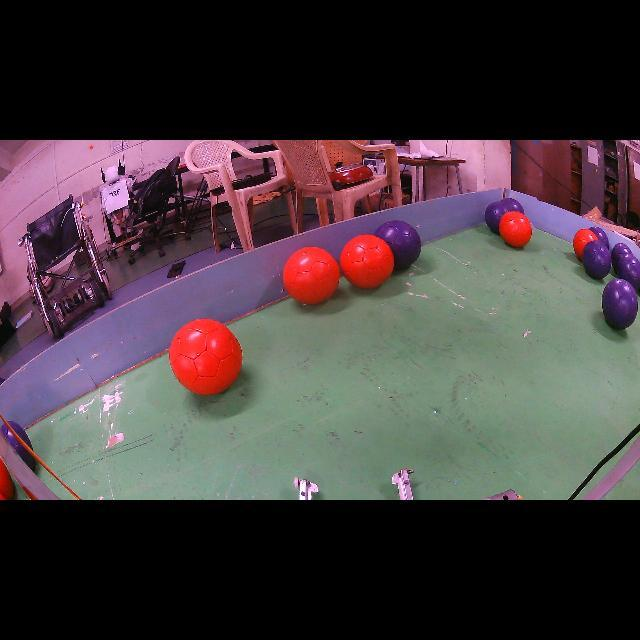P: (374, 220, 421, 269), (601, 279, 638, 330), (485, 198, 524, 234), (582, 240, 611, 279), (618, 255, 640, 291), (611, 242, 632, 274), (589, 226, 610, 249)
R: (169, 319, 242, 395), (282, 246, 340, 304), (340, 235, 394, 289), (499, 211, 532, 248), (572, 229, 598, 260)
